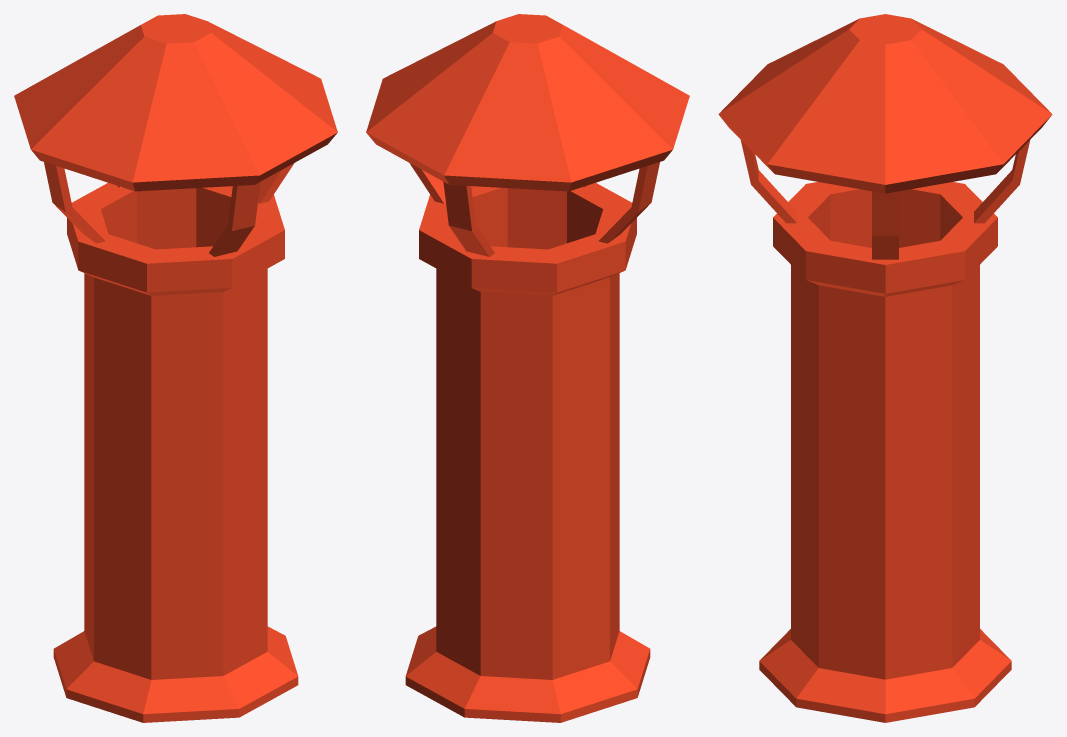
Rendered from SM_Chimney_Tall_C_City.fbx.
3 views of the same model, side by side, from view 1: azimuth 30°, elevation 25°; view 2: azimuth 150°, elevation 25°; view 3: azimuth 270°, elevation 25° (orthographic).
Visible parts, largest first — view 1: SM_Chimney_Tall_C_City; view 2: SM_Chimney_Tall_C_City; view 3: SM_Chimney_Tall_C_City.
Part boxes in pixels (x1,y1,x2,y2): SM_Chimney_Tall_C_City: [14, 14, 337, 722]; SM_Chimney_Tall_C_City: [366, 14, 689, 722]; SM_Chimney_Tall_C_City: [718, 14, 1052, 722].
Bounding box in the file's own units: 0.1925 × 0.407 × 0.1925.
